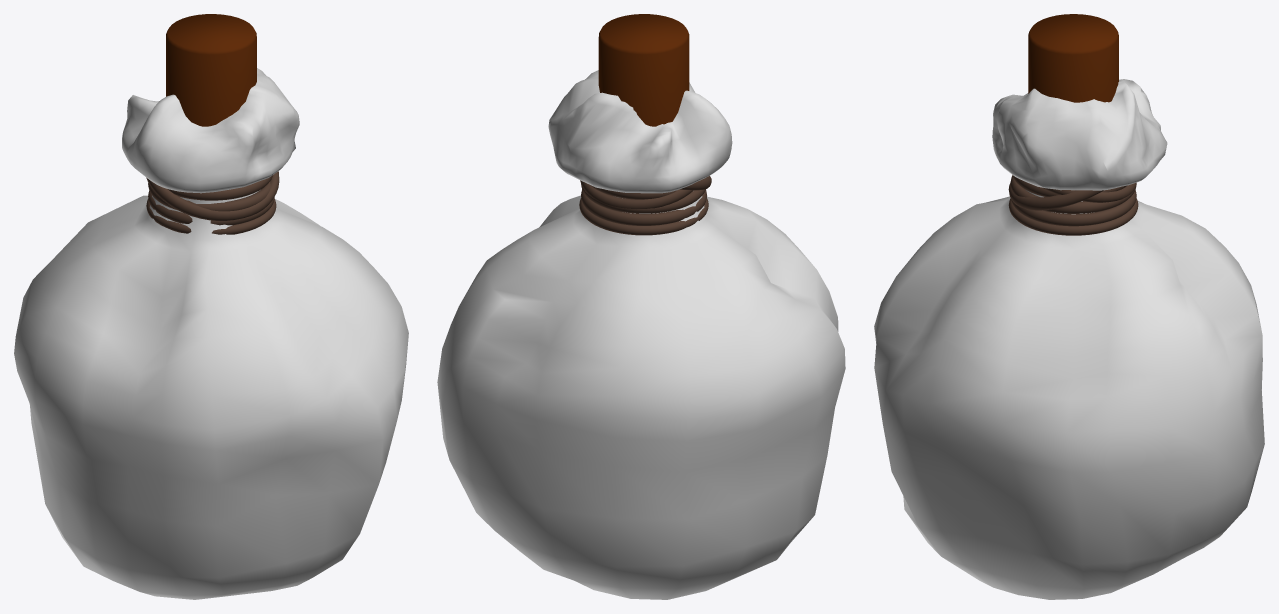
Rendered from 물감주머니.fbx.
3 views of the same model, side by side, from view 1: azimuth 30°, elevation 25°; view 2: azimuth 150°, elevation 25°; view 3: azimuth 270°, elevation 25° (orthographic).
Visible parts, largest first — view 1: Pocket, Plane.001, Cylinder.005, Torus.006; view 2: Pocket, Plane.001, Cylinder.005, Torus.006; view 3: Pocket, Plane.001, Cylinder.005, Torus.006.
Boxes of the visible parts, <box> form: Pocket: <box>14,190,408,599</box>; Plane.001: <box>122,68,299,193</box>; Cylinder.005: <box>166,14,256,126</box>; Torus.006: <box>146,171,279,234</box>; Pocket: <box>437,195,845,599</box>; Plane.001: <box>548,70,732,193</box>; Cylinder.005: <box>598,14,689,126</box>; Torus.006: <box>579,176,711,235</box>; Pocket: <box>874,190,1264,599</box>; Plane.001: <box>992,79,1167,190</box>; Cylinder.005: <box>1028,14,1118,102</box>; Torus.006: <box>1008,175,1138,235</box>.
Size of the model in its own units: 5.25 by 7.68 by 4.99.
